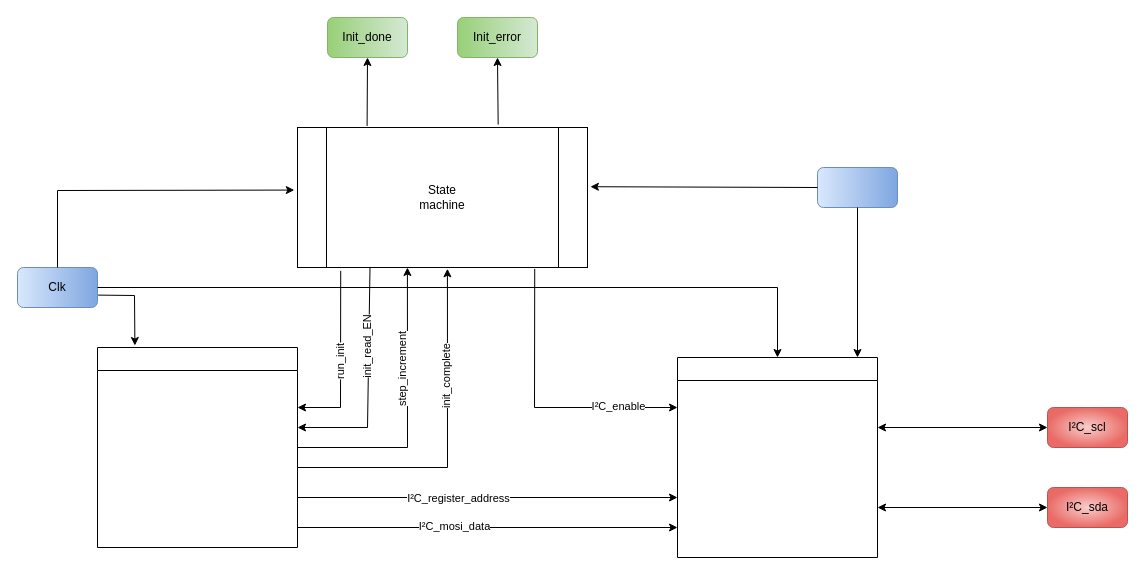
The diagram is 1145 pixels wide and 575 high, and some of its shapes have lost their labels. Each missing label, with the centre of its shape:
INIT_IMX219: the point at 197,447
I²C_master: the point at 777,457
RST_N: the point at 857,187
